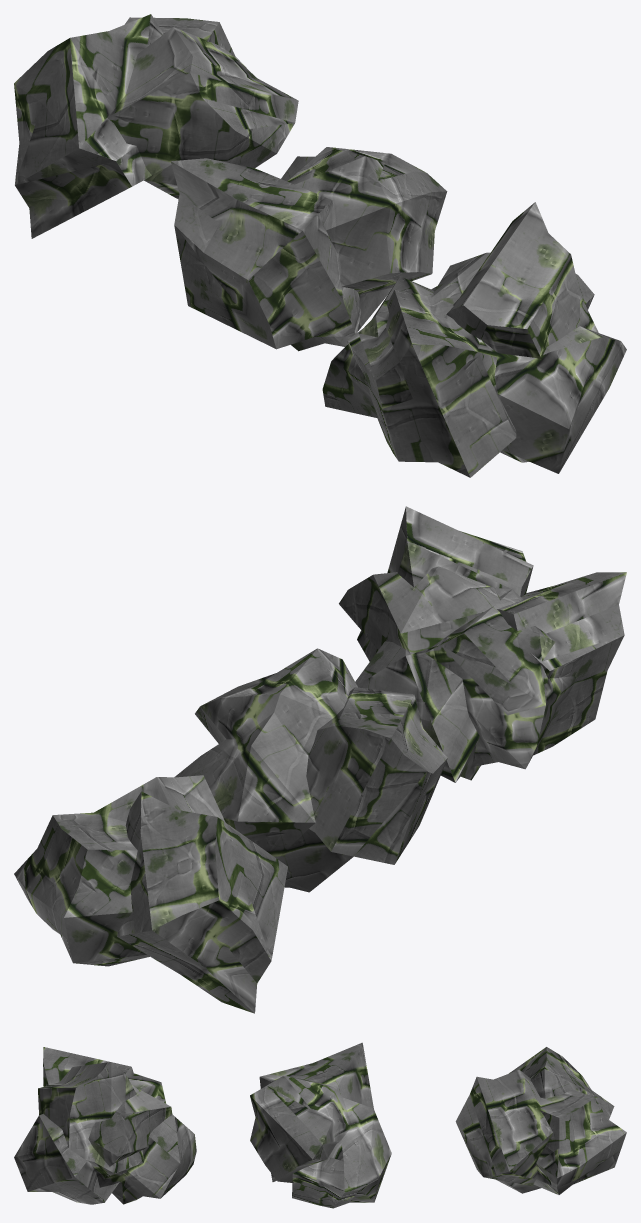
The model's file is Rocks.fbx.
3 renders of one model, top to bottom at view 1: azimuth 30°, elevation 25°; view 2: azimuth 150°, elevation 25°; view 3: azimuth 270°, elevation 25°, orthographic. The views are drawn at different scales.
Visible parts, largest first — view 1: Rock2, Rock1, Rock; view 2: Rock2, Rock, Rock1; view 3: Rock2, Rock, Rock1.
Boxes of the visible parts, left/top/right/bottom form: Rock2: left=322, top=202, right=626, bottom=477; Rock1: left=171, top=147, right=447, bottom=351; Rock: left=14, top=14, right=298, bottom=238; Rock2: left=339, top=506, right=626, bottom=782; Rock: left=14, top=775, right=287, bottom=1013; Rock1: left=174, top=648, right=447, bottom=892; Rock2: left=14, top=1047, right=196, bottom=1204; Rock: left=455, top=1047, right=626, bottom=1194; Rock1: left=250, top=1042, right=391, bottom=1208.
Size of the model in its own units: 4.47 by 4.27 by 14.05.
Materials: 1 (1 with a texture image).
